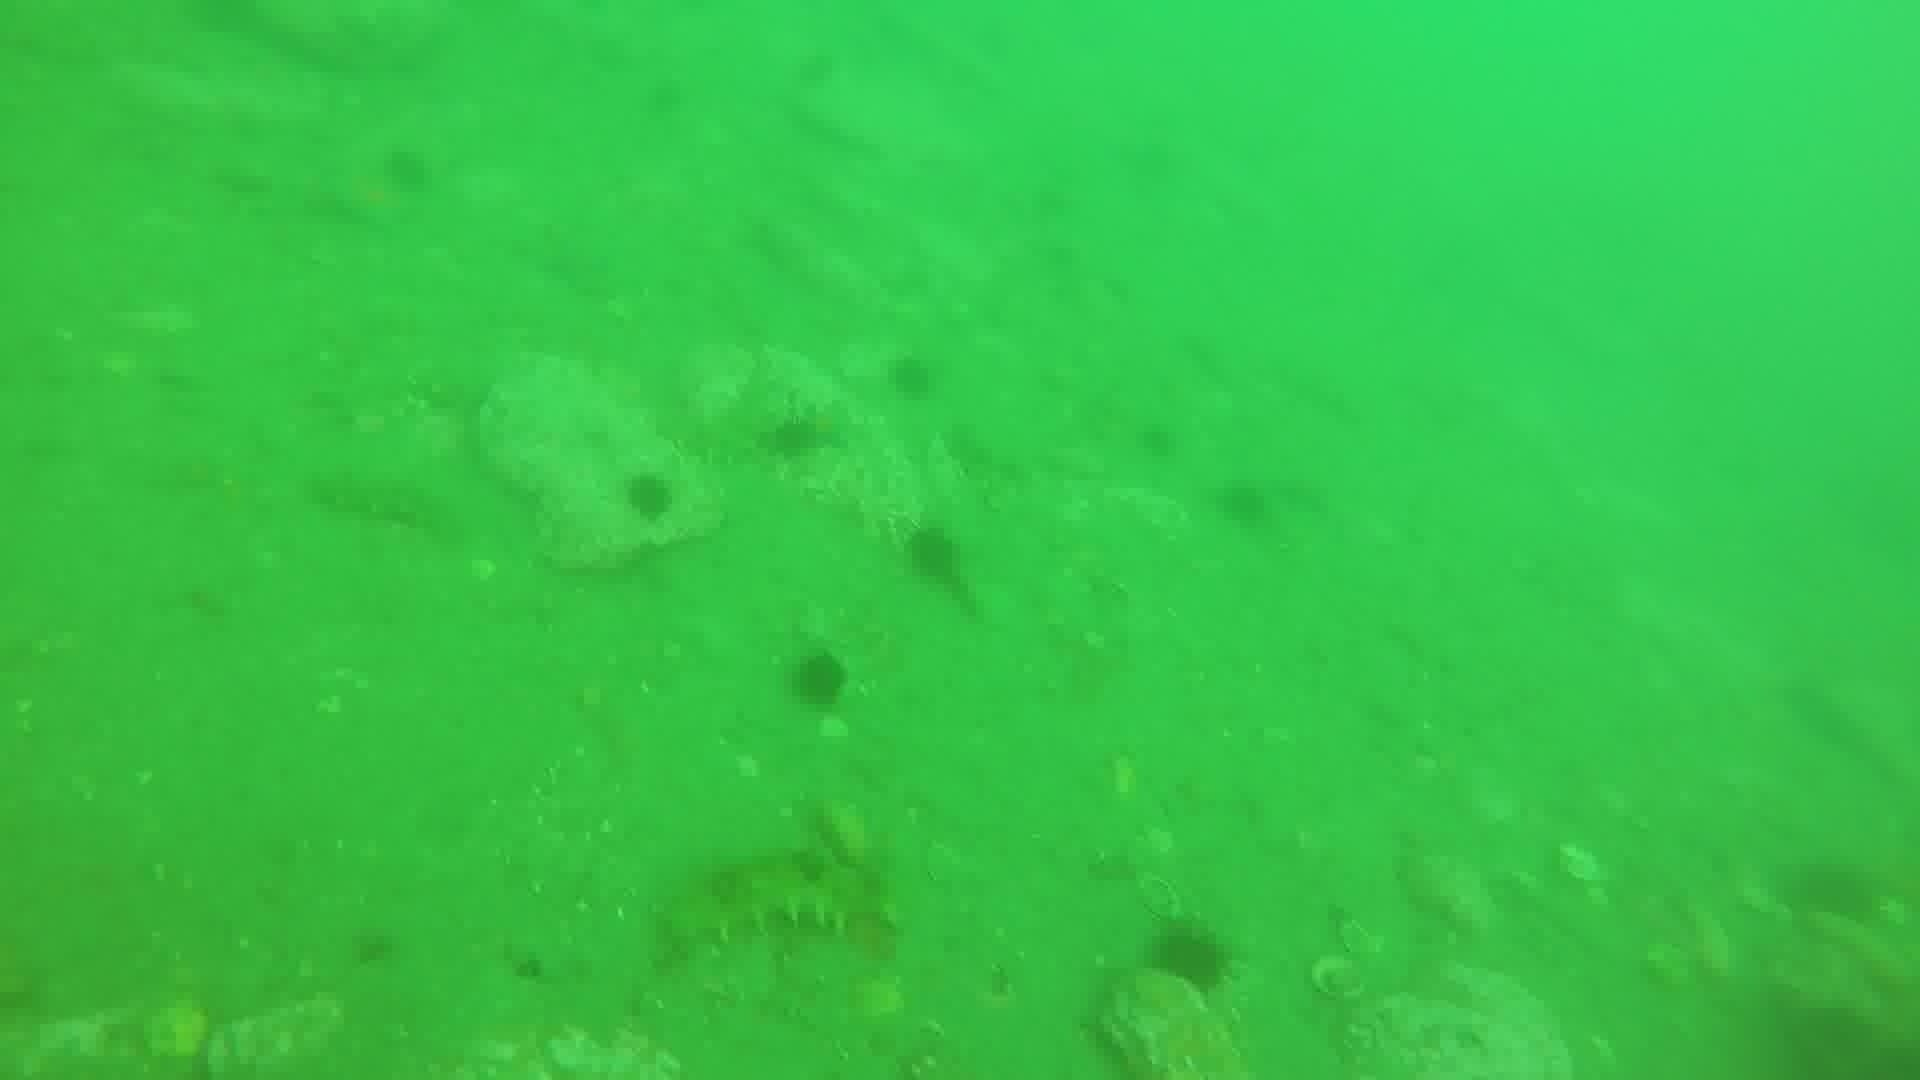echinus: (1779, 855, 1883, 928), (1145, 919, 1237, 1000), (899, 520, 971, 589), (783, 646, 855, 713), (757, 407, 832, 467), (1212, 475, 1276, 533), (618, 467, 680, 525), (377, 142, 438, 198), (882, 349, 942, 405), (1131, 417, 1183, 464)
holothurian: (655, 851, 905, 955), (302, 460, 458, 541)
starfish: (313, 157, 422, 235)
